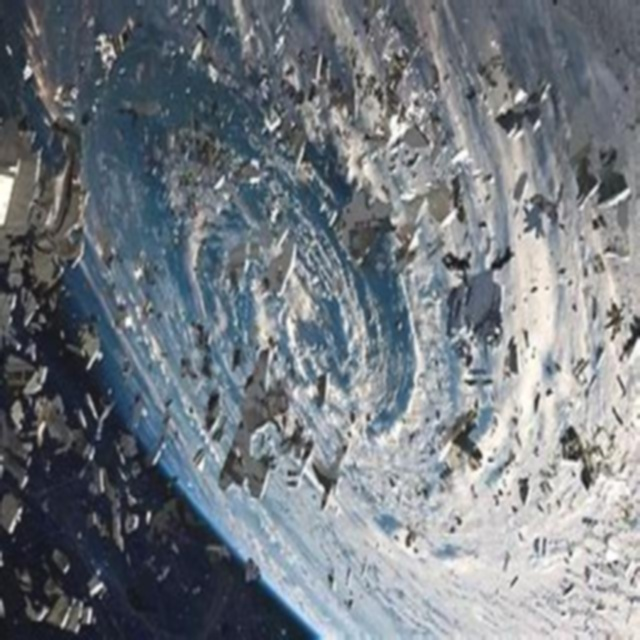large_debris: (0, 36, 82, 537)
